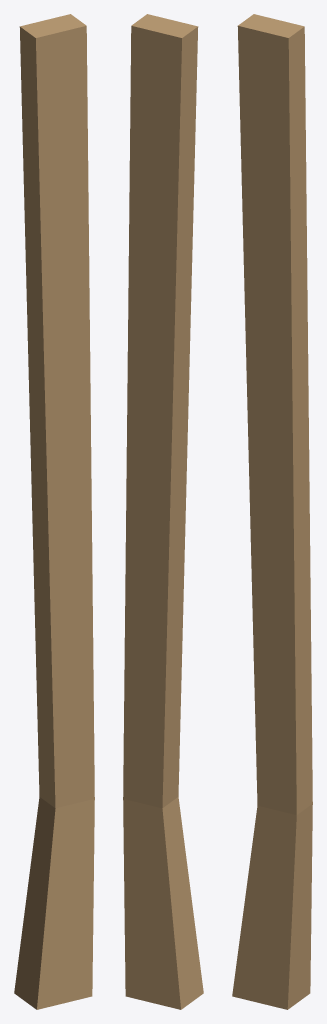
File: prop-felling-axe-handle-ax1.fbx
3 renders of one model, left to right at view 1: azimuth 30°, elevation 25°; view 2: azimuth 150°, elevation 25°; view 3: azimuth 330°, elevation 25°, orthographic.
Parts seen in each view (by area): view 1: prop-felling-axe-handle-ax1; view 2: prop-felling-axe-handle-ax1; view 3: prop-felling-axe-handle-ax1.
Part boxes in pixels (left/top/right/bottom): prop-felling-axe-handle-ax1: left=14, top=14, right=94, bottom=1009; prop-felling-axe-handle-ax1: left=123, top=14, right=203, bottom=1009; prop-felling-axe-handle-ax1: left=232, top=14, right=312, bottom=1009.
Size of the model in its own units: 5.3 by 80 by 3.4.
